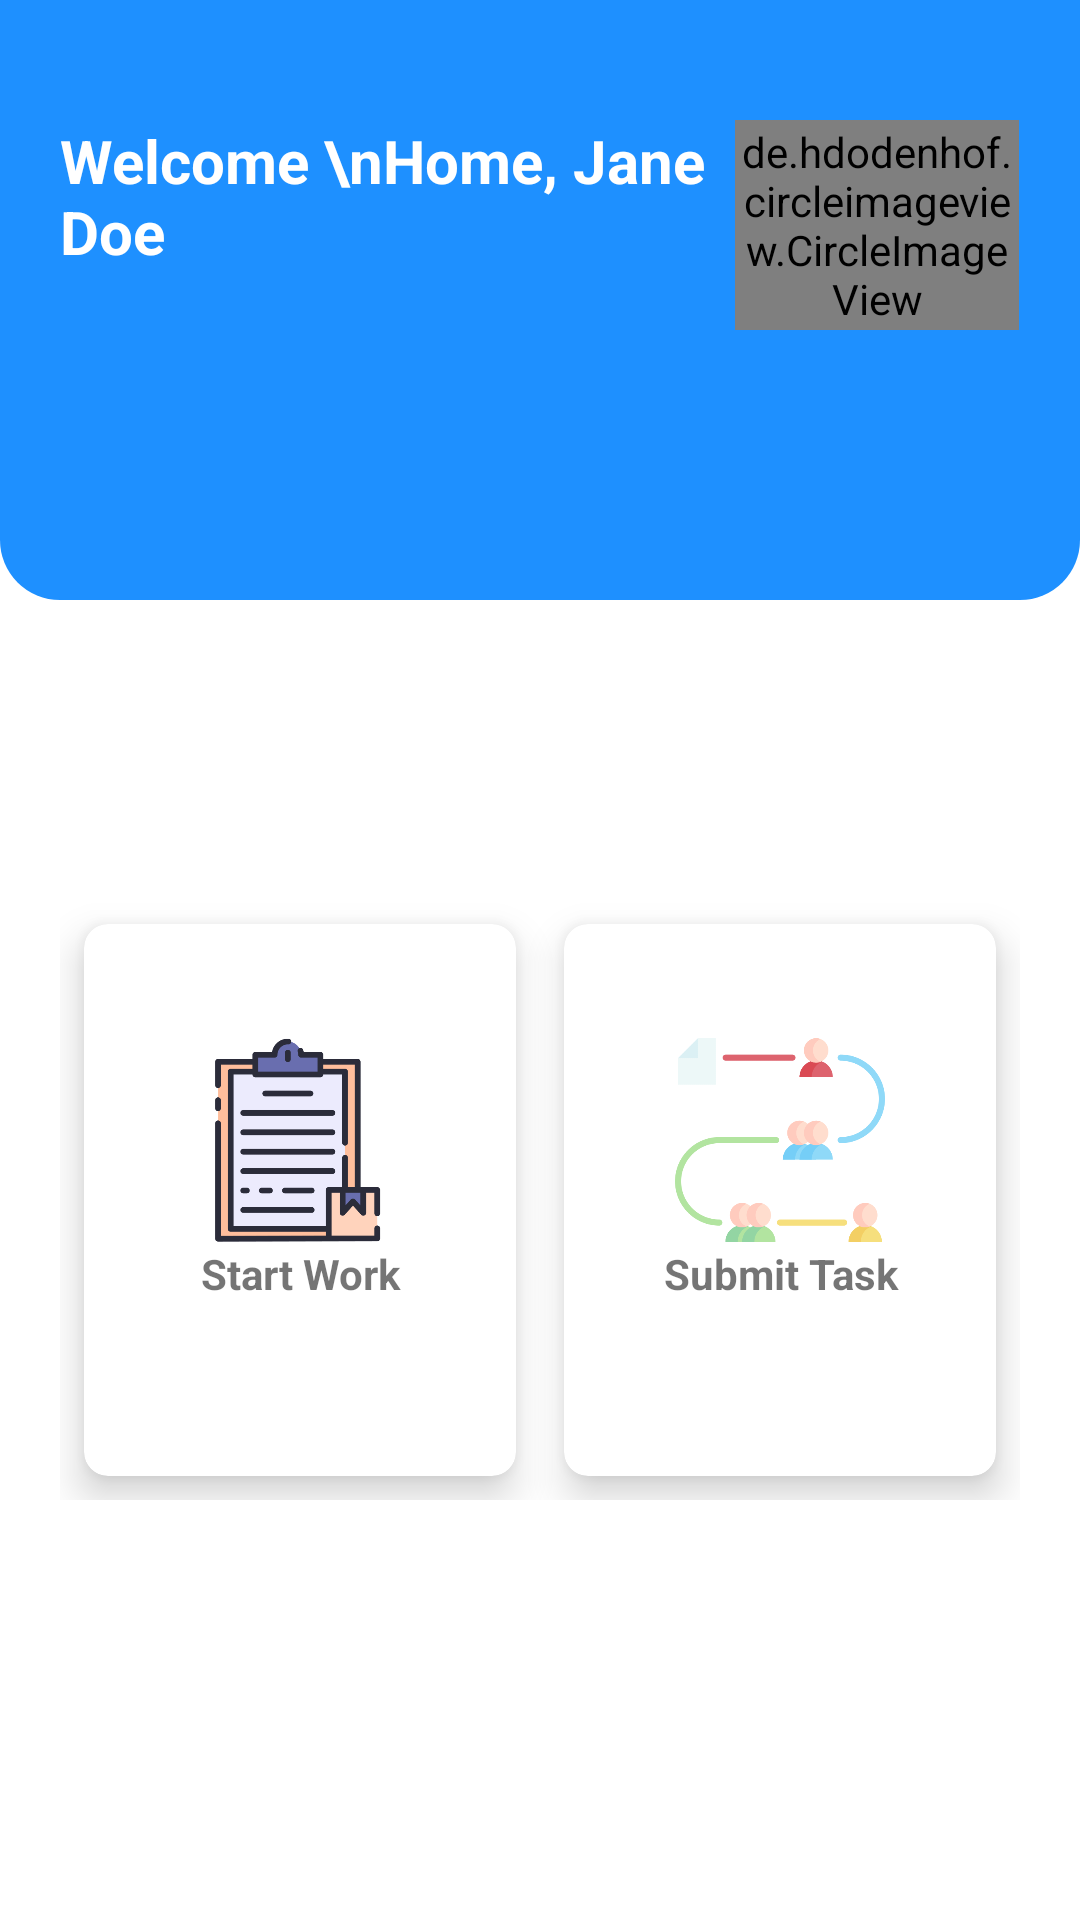

Where to tap for icons on this 1080x1920 app screen, as [x,y]:
bureaucracy: [780,1140]
custom clearance: [298,1140]
